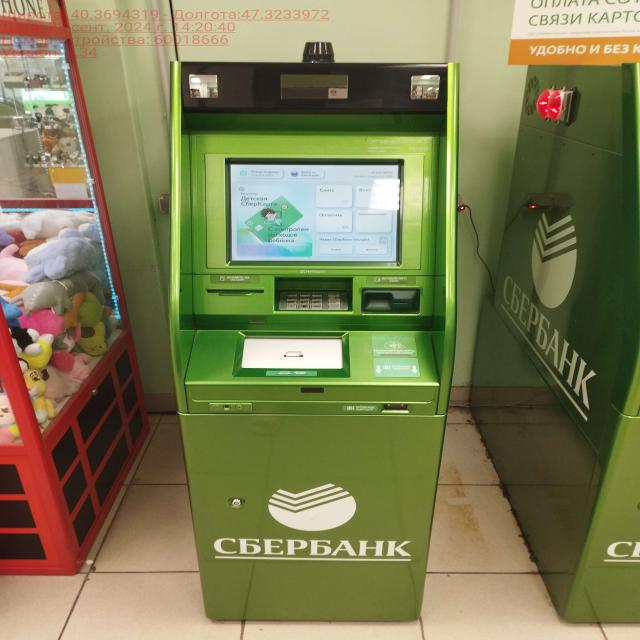bank: (156, 57, 464, 632), (474, 59, 640, 623)
